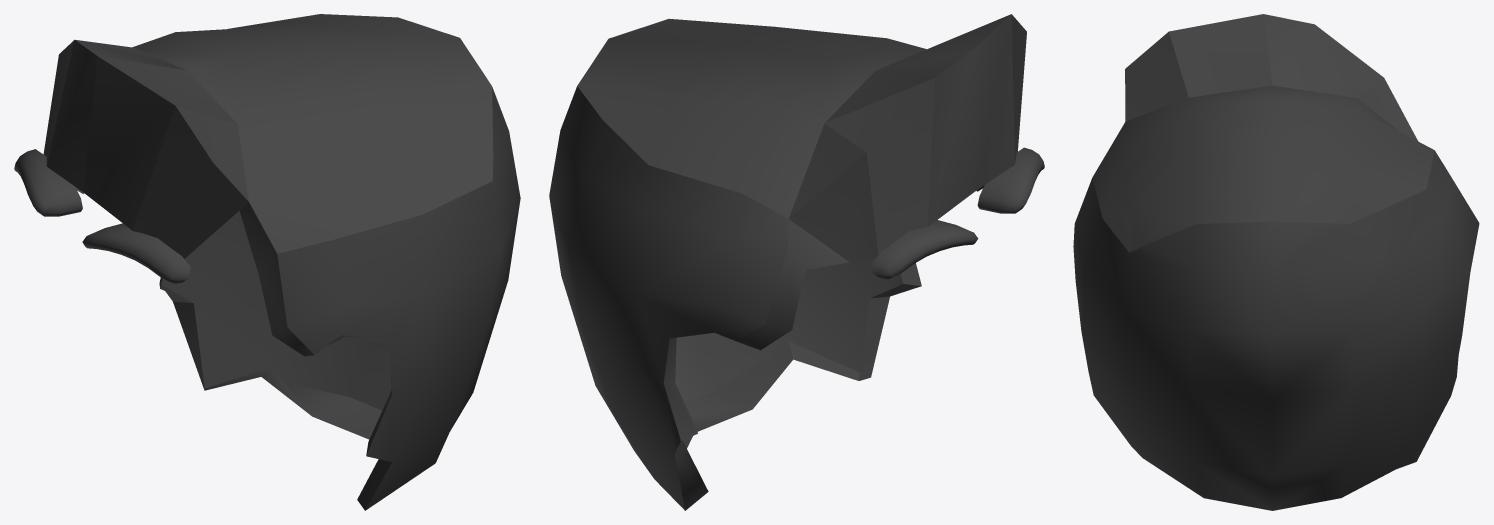
Rendered from Hair01.fbx.
3 renders of one model, left to right at view 1: azimuth 30°, elevation 25°; view 2: azimuth 150°, elevation 25°; view 3: azimuth 270°, elevation 25°, orthographic. The views are drawn at different scales.
Parts seen in each view (by area): view 1: Hair01; view 2: Hair01; view 3: Hair01.
Part boxes in pixels (x1,y1,x2,y2): Hair01: [14, 14, 520, 510]; Hair01: [549, 14, 1044, 510]; Hair01: [1073, 14, 1479, 510].
Size of the model in its own units: 0.8232 by 0.8195 by 0.8279.
